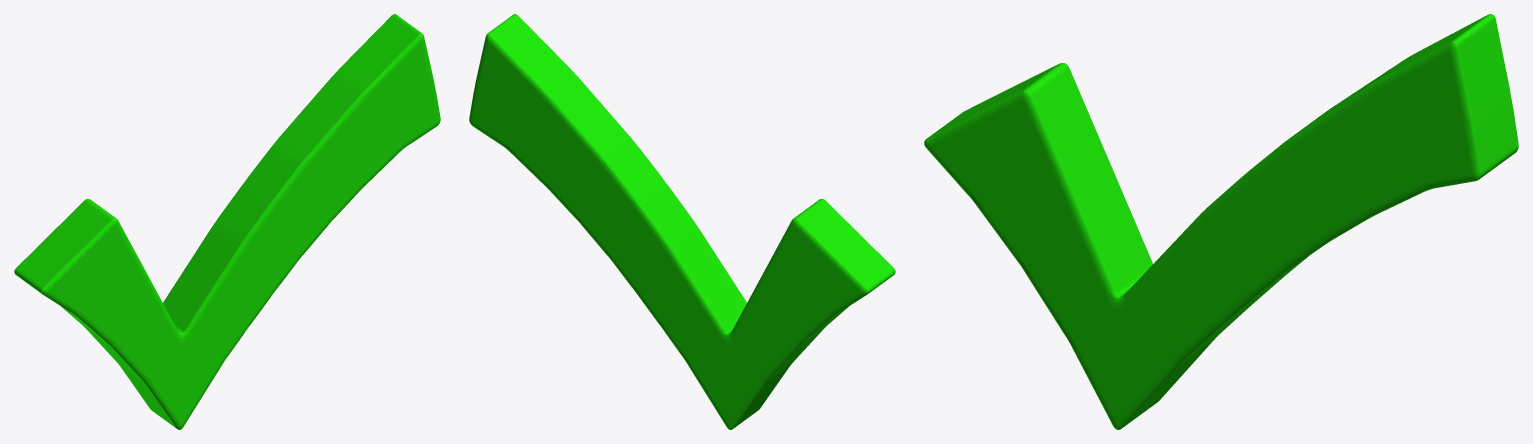
The model's file is check.glb.
The picture shows the model from 3 angles, left to right: view 1: azimuth 30°, elevation 25°; view 2: azimuth 150°, elevation 25°; view 3: azimuth 330°, elevation 25°; orthographic projection. The views are drawn at different scales.
Parts seen in each view (by area): view 1: check; view 2: check; view 3: check.
Boxes of the visible parts, bbox=[...] form: check: bbox=[14, 14, 440, 429]; check: bbox=[469, 14, 895, 429]; check: bbox=[924, 14, 1518, 429].
Size of the model in its own units: 1.04 by 0.8376 by 0.1351.
